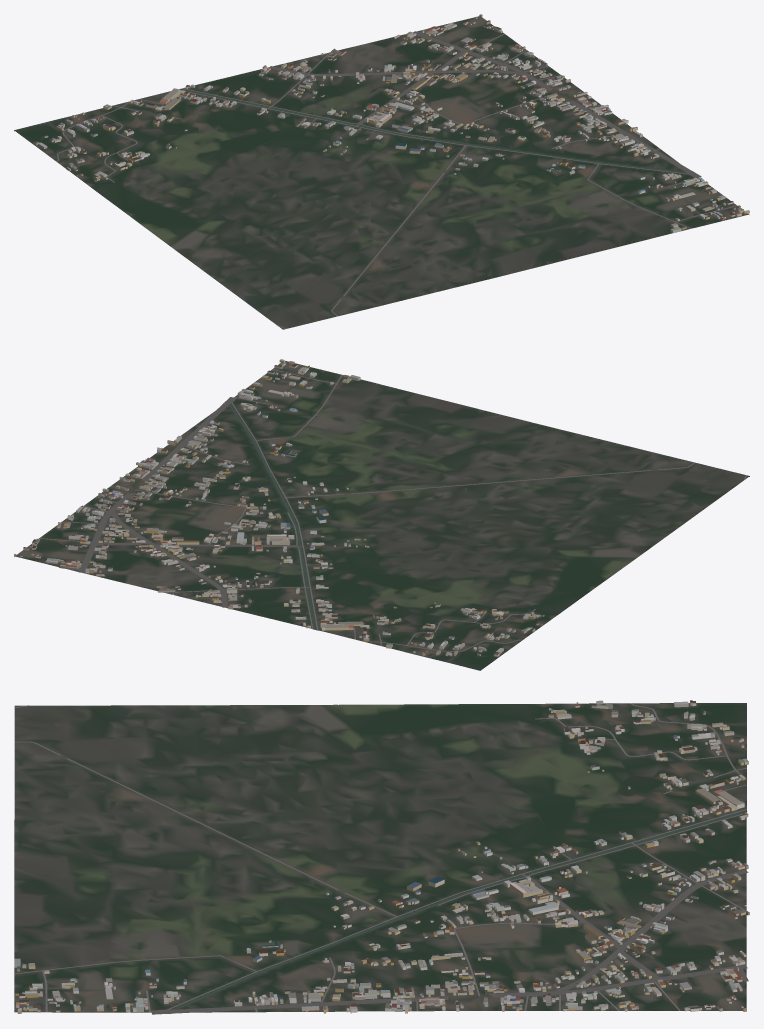
The picture shows the model from 3 angles, top to bottom: view 1: azimuth 30°, elevation 25°; view 2: azimuth 150°, elevation 25°; view 3: azimuth 270°, elevation 25°; orthographic projection. The views are drawn at different scales.
Visible parts, largest first — view 1: ground, buildings, roads, water; view 2: ground, buildings, roads, water; view 3: ground, buildings, roads, water.
Part boxes in pixels (x1,y1,x2,y2): ground: [14, 16, 749, 329]; buildings: [34, 14, 749, 232]; roads: [56, 26, 737, 328]; water: [179, 89, 686, 173]; ground: [15, 361, 749, 670]; buildings: [14, 359, 544, 656]; roads: [39, 369, 746, 651]; water: [229, 404, 316, 629]; ground: [14, 703, 746, 1012]; buildings: [14, 700, 749, 1013]; roads: [14, 703, 748, 1014]; water: [172, 810, 747, 1009].
Size of the model in its own units: 1410 by 22.62 by 1408.
